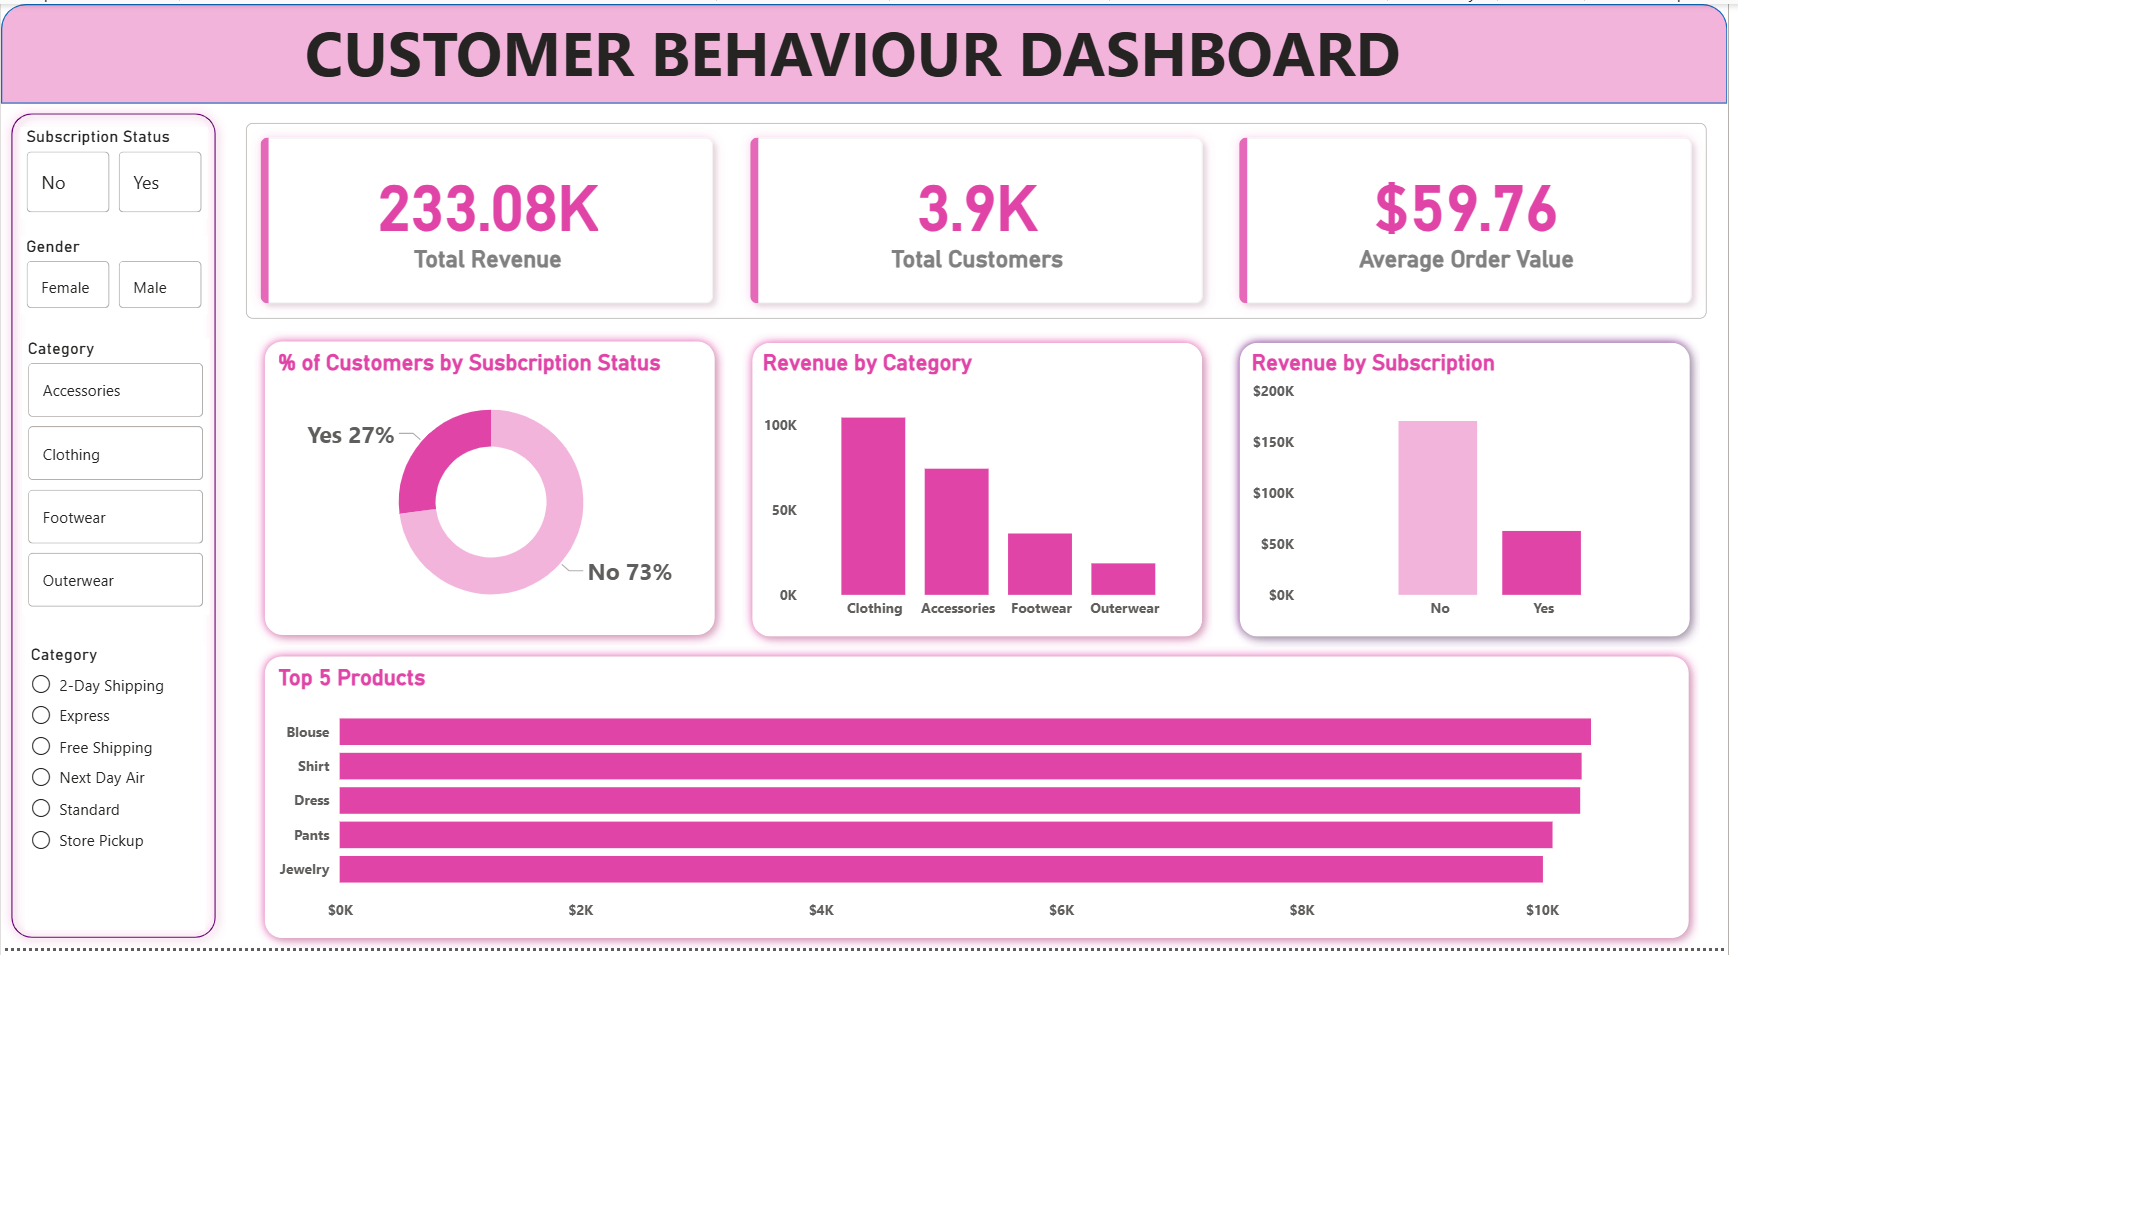

The page's visual inventory and layout, read from the dashboard file:
{"tool":"powerbi","page":{"name":"Page 1","canvas":[1500,820],"ordinal":0},"visuals":[{"type":"cardVisual","fields":{"Data":["cleaned_retail_data.Total Revenue","cleaned_retail_data.Total Customers","cleaned_retail_data.Average Order Value"]},"box":[195.5,86.5,1304.1,204.4],"z":0},{"type":"shape","box":[0,0,1499.5,86.5],"z":1000},{"type":"textbox","box":[149.2,0,1180.2,86.5],"z":2000},{"type":"shape","box":[220.8,283.5,408.8,273],"z":3000},{"type":"donutChart","title":"% of Customers by Susbcription Status","fields":{"Y":["CountNonNull(cleaned_retail_data.customer_id)"],"Category":["cleaned_retail_data.subscription_status"]},"box":[235.7,299.9,379,243.2],"z":4000},{"type":"shape","box":[0,86.5,195.5,734.1],"z":5000},{"type":"advancedSlicerVisual","title":"Subscription Status","fields":{"Values":["cleaned_retail_data.subscription_status"]},"box":[16.4,107.4,162.6,79.1],"z":6000},{"type":"advancedSlicerVisual","title":"Gender","fields":{"Values":["cleaned_retail_data.gender"]},"box":[16.4,201.4,162.6,67.1],"z":7000},{"type":"advancedSlicerVisual","title":"Category","fields":{"Values":["cleaned_retail_data.category"]},"box":[17.9,290.9,162.6,240.2],"z":8000},{"type":"listSlicer","title":"Category","fields":{"Values":["cleaned_retail_data.shipping_type"]},"box":[20.9,556.5,156.7,247.7],"z":9000},{"type":"shape","box":[220.8,558,1254.8,262.6],"z":10000},{"type":"shape","box":[1066.8,285,408.8,273],"z":15000},{"type":"shape","box":[643.1,285,408.8,273],"z":16000},{"type":"clusteredColumnChart","title":"Revenue by Category","fields":{"Category":["cleaned_retail_data.category"],"Y":["Sum(cleaned_retail_data.purchase_amount_usd)"]},"box":[656.5,299.9,382,243.2],"z":16250},{"type":"clusteredColumnChart","title":"Revenue by Subscription ","fields":{"Category":["cleaned_retail_data.subscription_status"],"Y":["cleaned_retail_data.Total Revenue"]},"box":[1081.7,299.9,380.5,243.2],"z":16500},{"type":"clusteredBarChart","title":"Top 5 Products","fields":{"Category":["cleaned_retail_data.item_purchased"],"Y":["cleaned_retail_data.Total Revenue"]},"box":[235.7,572.9,1226.5,231.3],"z":17000}]}

Visuals, with their boxes on the page's 1500x820 design canvas (x1, y1, x2, y2). These are canvas units, not pixel positions in the 2154x1221 screenshot, which may show the page scaled, cropped or inside an application window:
cardVisual - cleaned_retail_data.Total Revenue x cleaned_retail_data.Total Customers: 196/86/1500/291
shape: 0/0/1500/86
textbox: 149/0/1329/86
shape: 221/284/630/556
"% of Customers by Susbcription Status" donutChart: 236/300/615/543
shape: 0/86/196/821
"Subscription Status" advancedSlicerVisual: 16/107/179/186
"Gender" advancedSlicerVisual: 16/201/179/268
"Category" advancedSlicerVisual: 18/291/180/531
"Category" listSlicer: 21/556/178/804
shape: 221/558/1476/821
shape: 1067/285/1476/558
shape: 643/285/1052/558
"Revenue by Category" clusteredColumnChart: 656/300/1038/543
"Revenue by Subscription " clusteredColumnChart: 1082/300/1462/543
"Top 5 Products" clusteredBarChart: 236/573/1462/804
